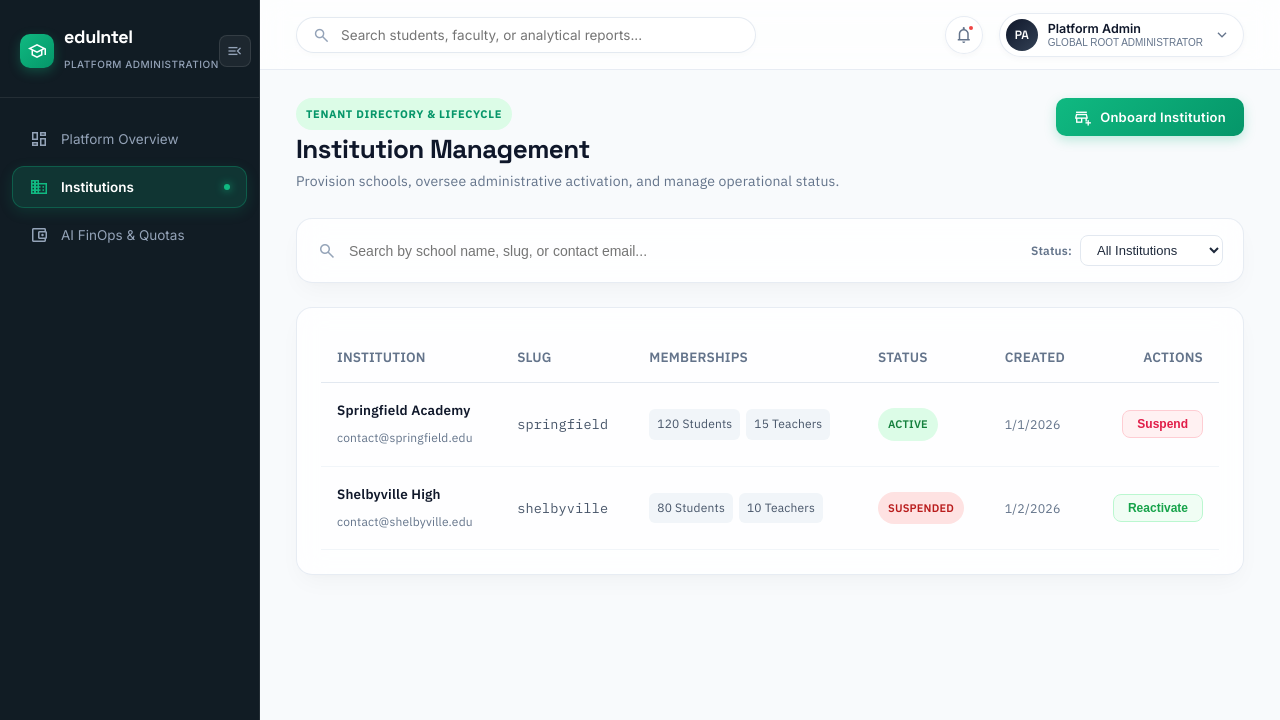
Test: Institution Management UI & Lifecycle (SEC-04, SEC-05) › opens suspension confirmation modal before status modification
Later steps or results of the test are not shown.
expect the text "Springfield Academy" is shown: met, box [337,401,471,419]
# Click Suspend action button on first active institution
What coordinates should you click on to do the following:
click the button "Suspend"
I would click on:
 (1163, 424)
Its box is [1122,410,1203,438].
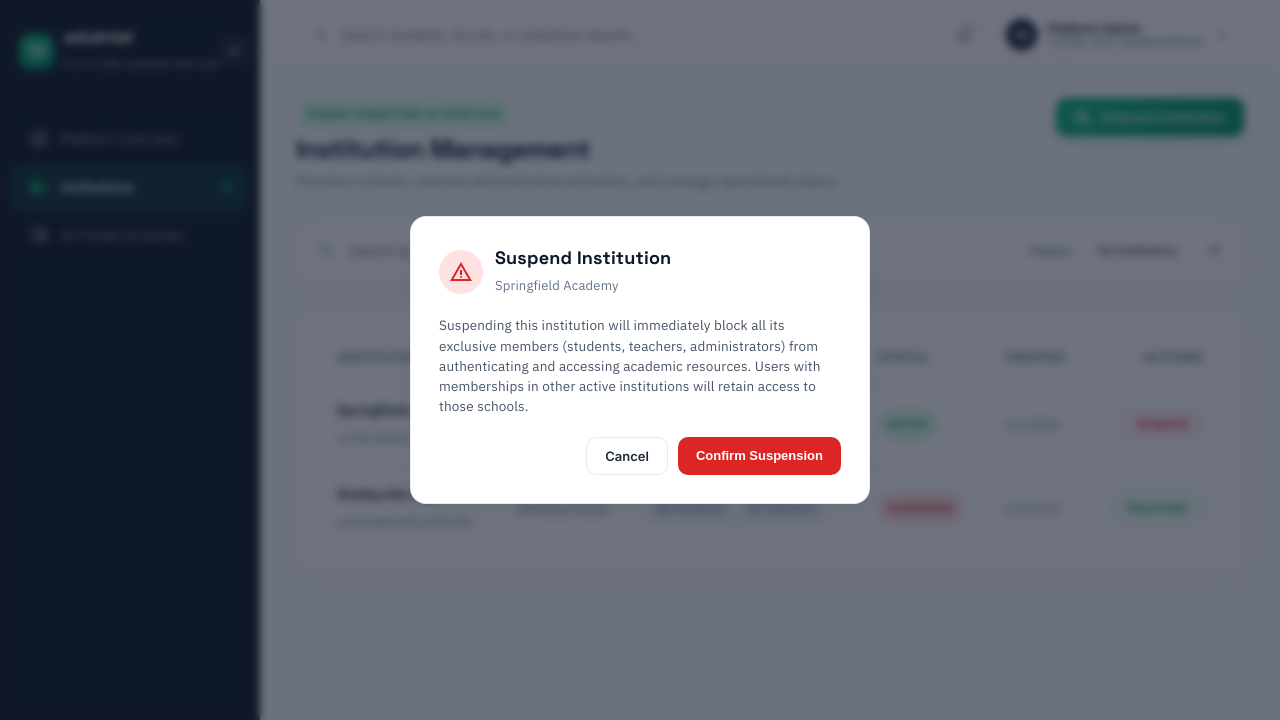
expect the heading "Suspend Institution" is shown: met, box [495,245,671,271]
